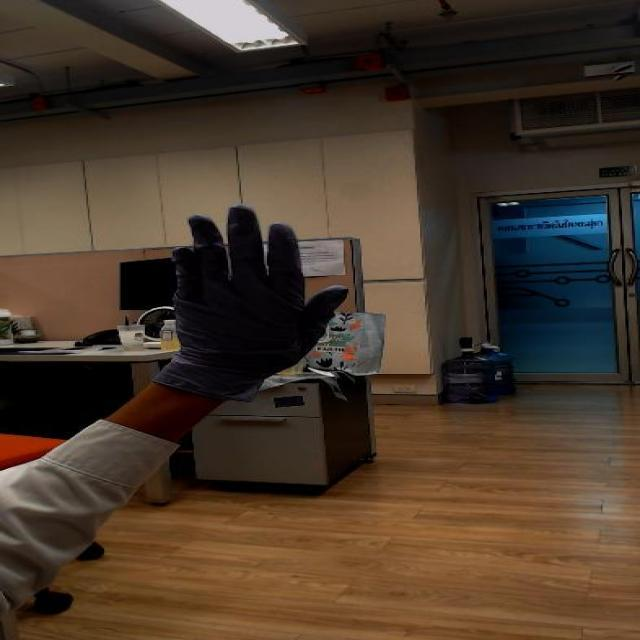with_gloves: (100, 162, 405, 385)
